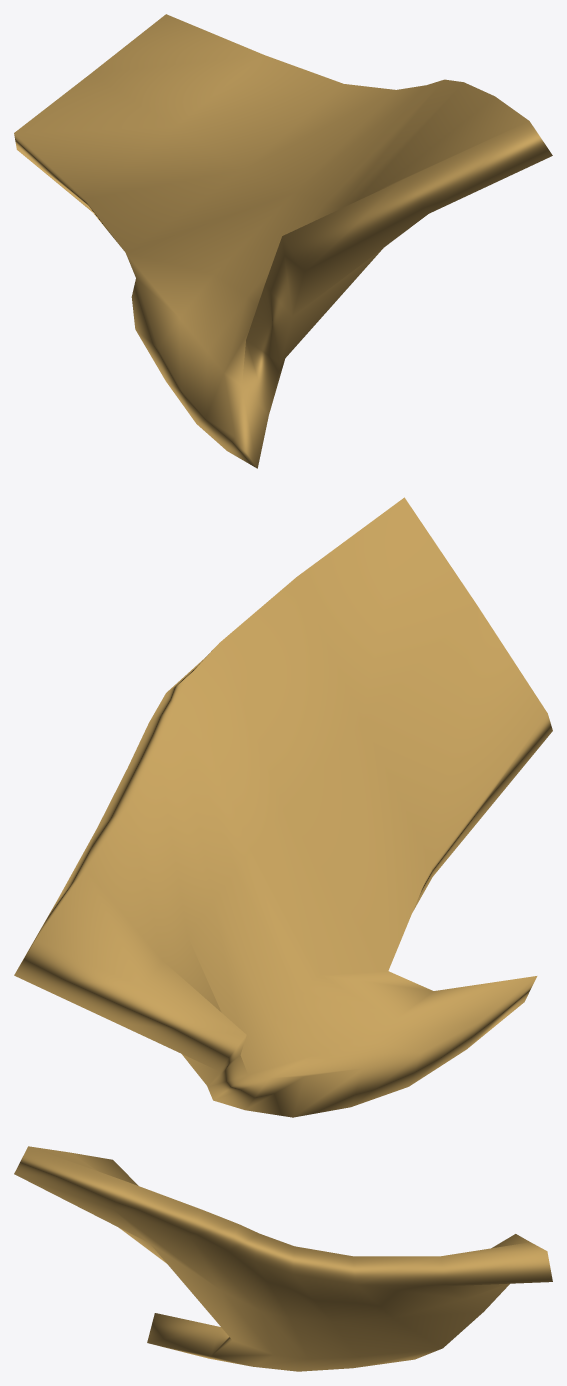
The picture shows the model from 3 angles, top to bottom: view 1: azimuth 30°, elevation 25°; view 2: azimuth 150°, elevation 25°; view 3: azimuth 270°, elevation 25°; orthographic projection. The views are drawn at different scales.
Parts seen in each view (by area): view 1: 右侧舟大多角小多角骨韧带; view 2: 右侧舟大多角小多角骨韧带; view 3: 右侧舟大多角小多角骨韧带.
Part boxes in pixels (<box>): 右侧舟大多角小多角骨韧带: <box>14,14,552,468</box>; 右侧舟大多角小多角骨韧带: <box>14,497,552,1117</box>; 右侧舟大多角小多角骨韧带: <box>14,1146,552,1371</box>.
Bounding box in the file's own units: 0.00588 × 0.00734 × 0.0127.
